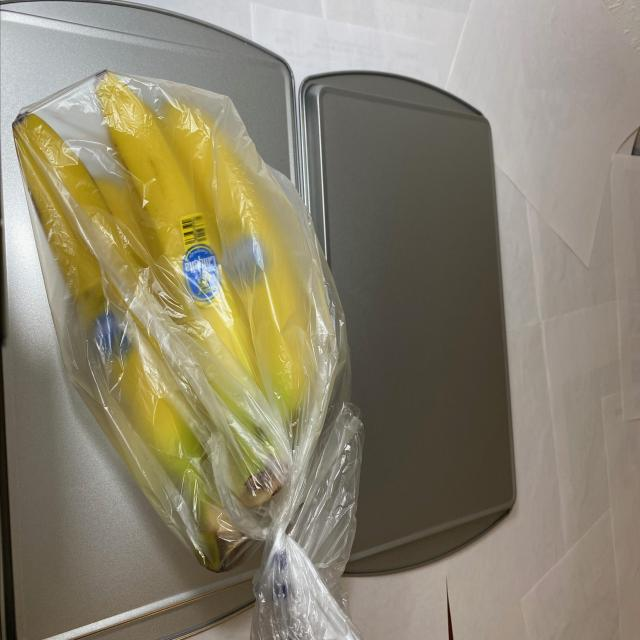banana: (8, 69, 346, 575)
